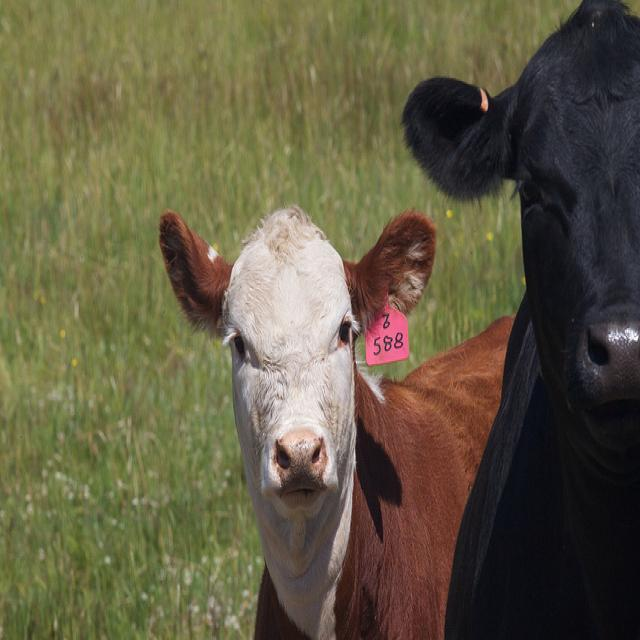cow: (156, 201, 515, 631), (400, 0, 639, 637)
